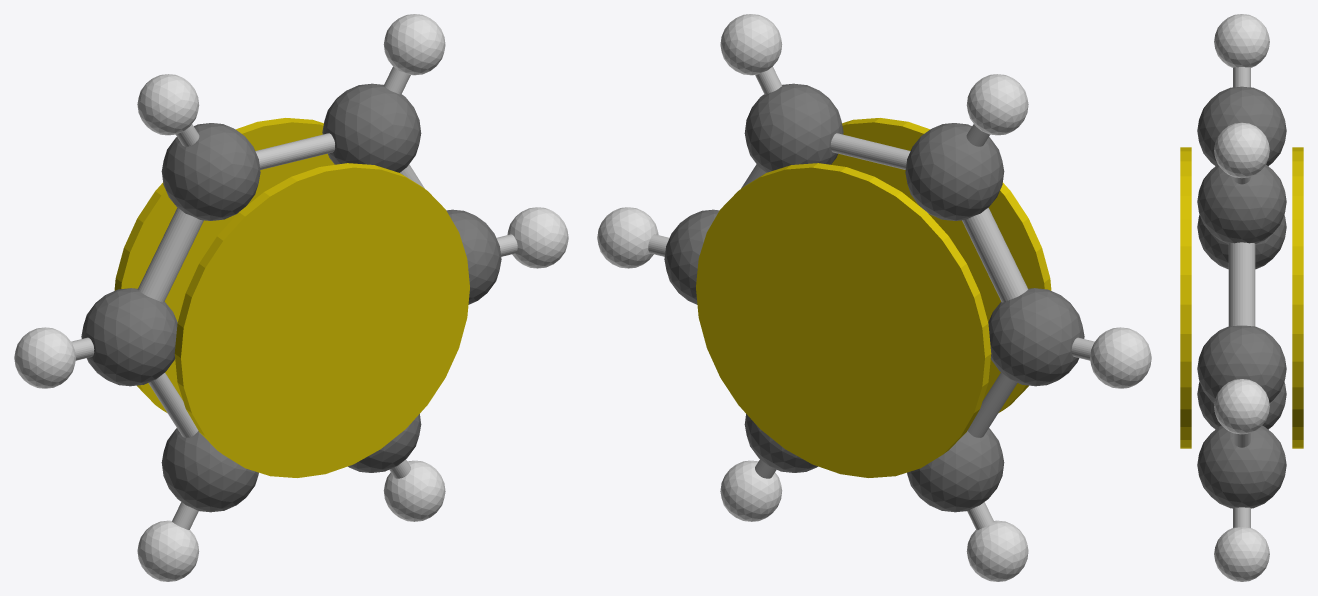
Rendered from benzene_ring.glb.
The picture shows the model from 3 angles, left to right: view 1: azimuth 30°, elevation 25°; view 2: azimuth 150°, elevation 25°; view 3: azimuth 270°, elevation 25°; orthographic projection. The views are drawn at different scales.
Visible parts, largest first — view 1: world; view 2: world; view 3: world.
Boxes of the visible parts, x1,y1,x2,y2 form: world: (14, 14, 568, 581); world: (597, 14, 1151, 581); world: (1180, 14, 1303, 581).
Bounding box in the file's own units: 5.1 × 4.48 × 1.1.
